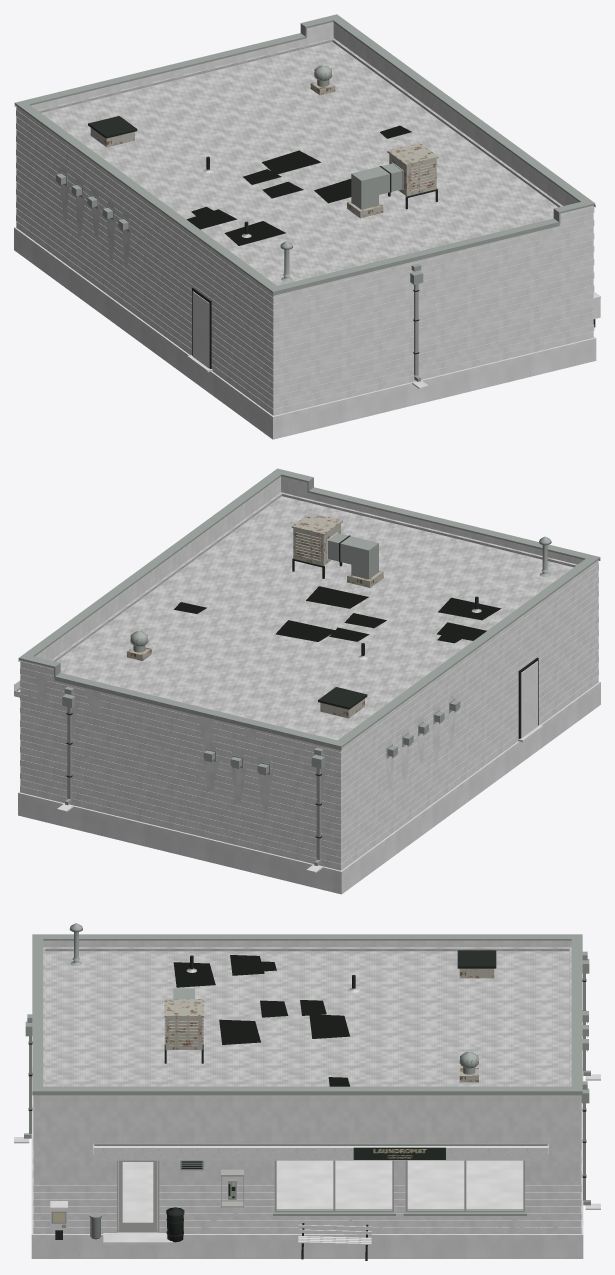
Rendered from SM_Town_Laundry_Shell.glb.
The picture shows the model from 3 angles, top to bottom: view 1: azimuth 30°, elevation 25°; view 2: azimuth 150°, elevation 25°; view 3: azimuth 270°, elevation 25°; orthographic projection. The views are drawn at different scales.
Parts seen in each view (by area): view 1: SM_Town_Laundry_Shell; view 2: SM_Town_Laundry_Shell; view 3: SM_Town_Laundry_Shell.
Part boxes in pixels (box(x1,y1,x2,y2)): SM_Town_Laundry_Shell: box(14, 14, 600, 439); SM_Town_Laundry_Shell: box(14, 468, 600, 894); SM_Town_Laundry_Shell: box(14, 923, 600, 1260).
Bounding box in the file's own units: 11.12 × 5.55 × 15.24.
22 materials, 17 textured.
